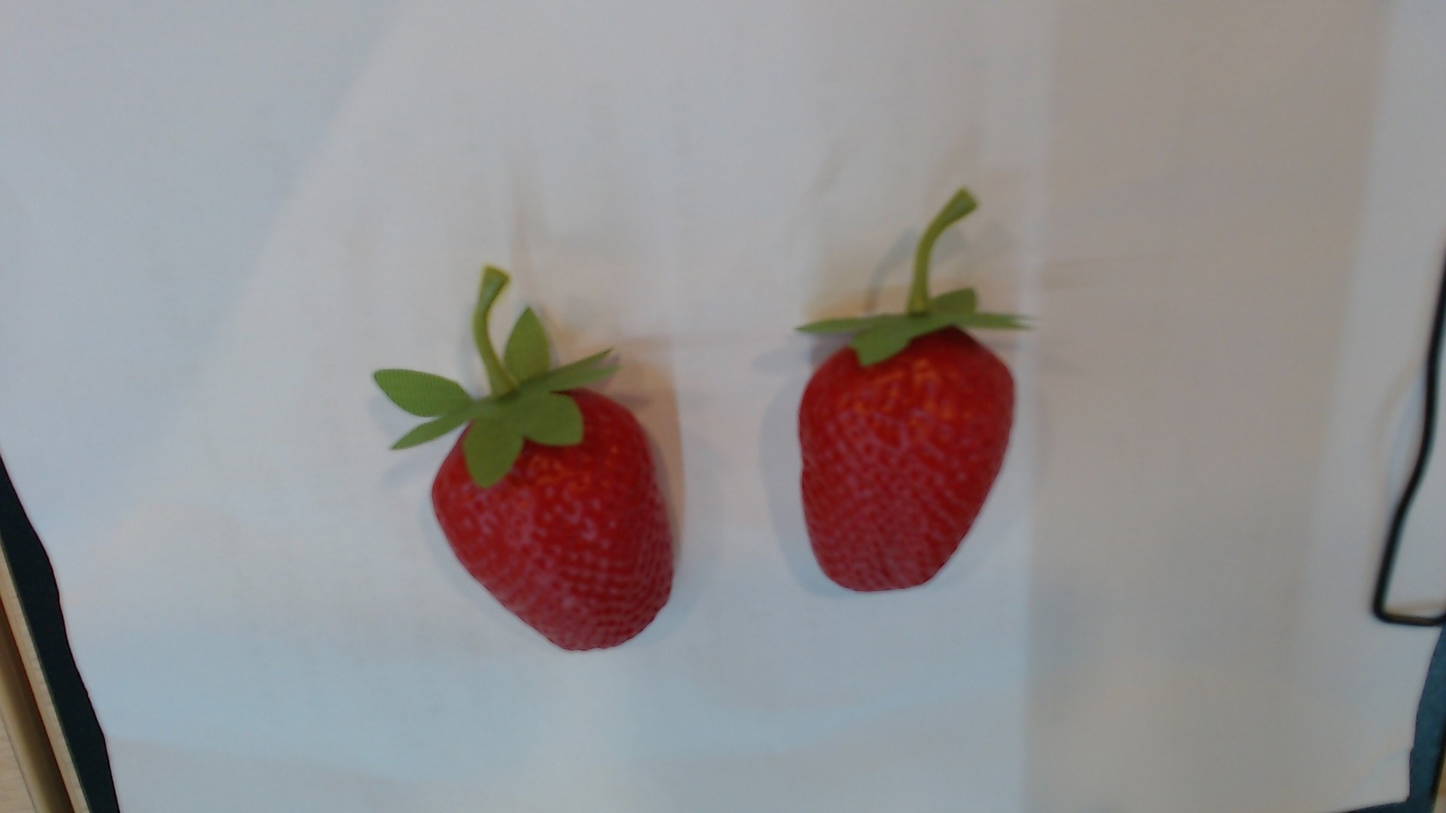strawberry: (414, 373, 678, 659), (783, 297, 1024, 599)
